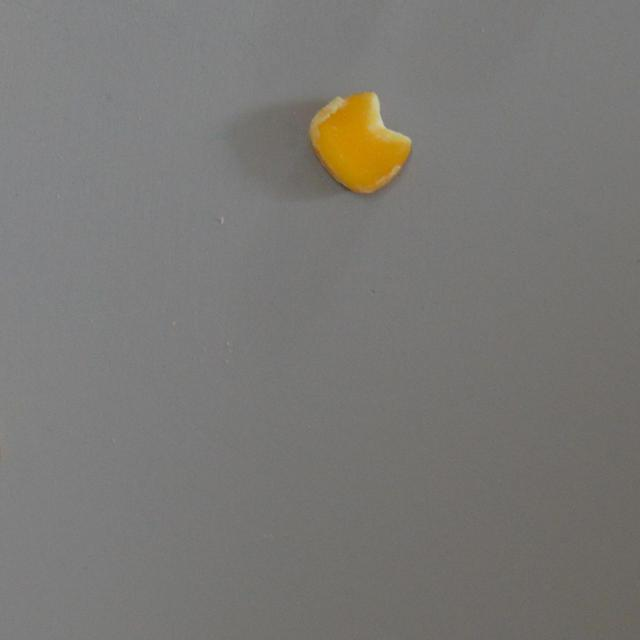pelicula: (307, 90, 410, 196)
